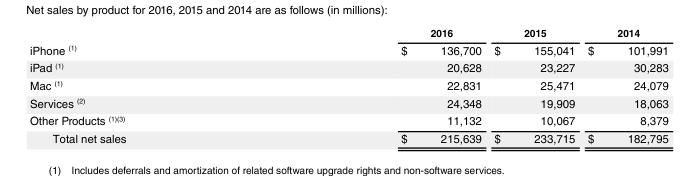table: (28, 28, 667, 145)
table column: (28, 28, 262, 145), (262, 28, 487, 145), (487, 28, 580, 145), (580, 28, 667, 145)
table column header: (28, 28, 667, 41)
table row: (28, 41, 667, 59), (28, 59, 667, 77), (28, 94, 667, 112), (28, 112, 667, 130), (28, 77, 667, 94), (28, 130, 667, 145), (28, 28, 667, 41)
